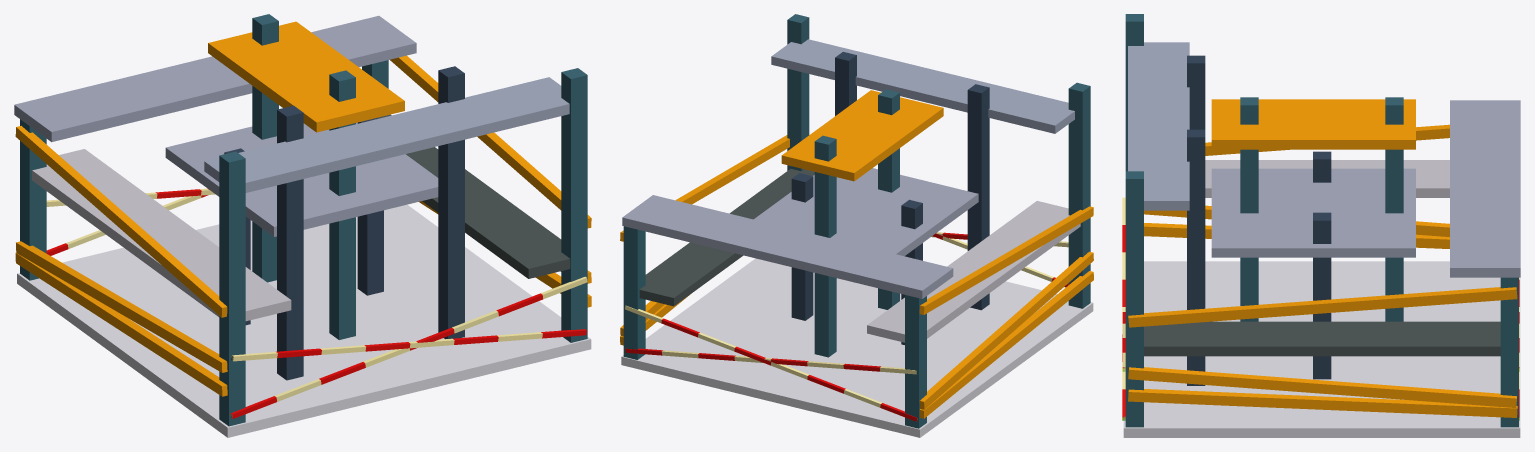
The model's file is Construction.fbx.
The picture shows the model from 3 angles, left to right: view 1: azimuth 30°, elevation 25°; view 2: azimuth 150°, elevation 25°; view 3: azimuth 270°, elevation 25°; orthographic projection. The views are drawn at different scales.
Parts seen in each view (by area): view 1: Cube.007; view 2: Cube.007; view 3: Cube.007.
Boxes of the visible parts, left/top/right/bottom form: Cube.007: left=14, top=14, right=591, bottom=437; Cube.007: left=620, top=14, right=1093, bottom=437; Cube.007: left=1122, top=14, right=1520, bottom=437.
Bounding box in the file's own units: 5.05 × 3.59 × 5.01.
